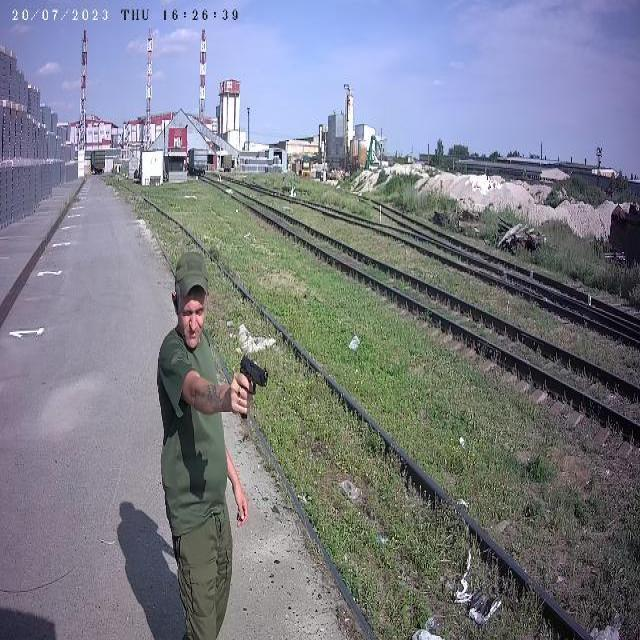pistol: (238, 354, 272, 422)
